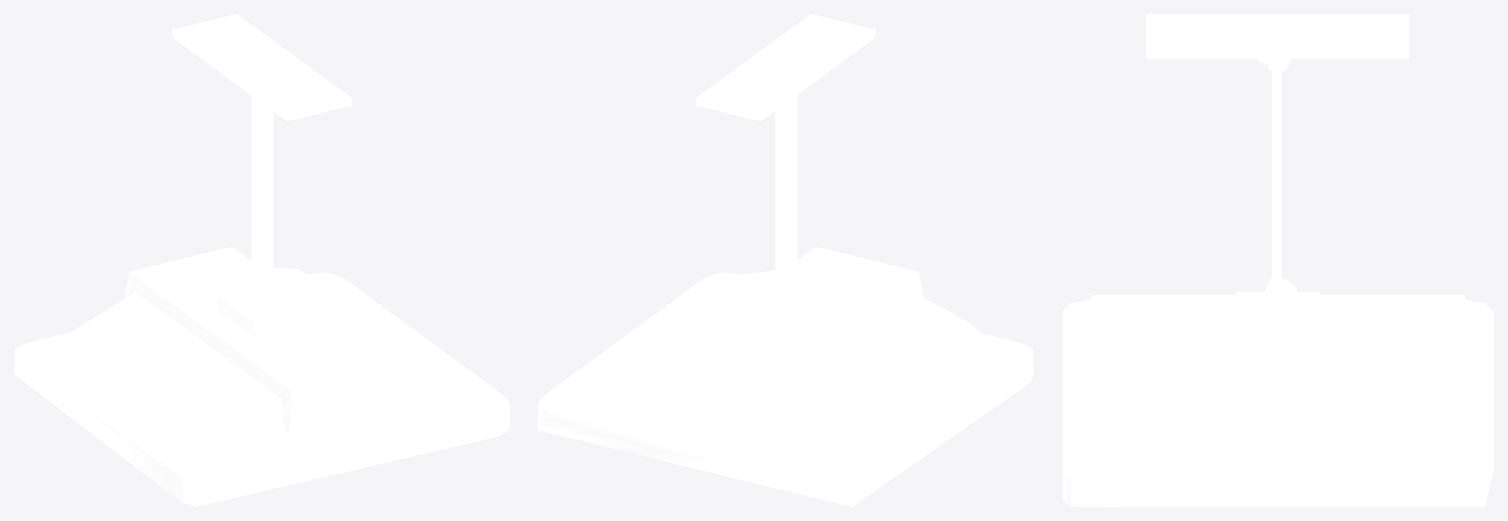
The model's file is bw-ceiling-lamp.lod1.glb.
3 views of the same model, side by side, from view 1: azimuth 30°, elevation 25°; view 2: azimuth 150°, elevation 25°; view 3: azimuth 270°, elevation 25° (orthographic). The views are drawn at different scales.
Visible parts, largest first — view 1: Lamp_Base_Lamp_0; view 2: Lamp_Base_Lamp_0; view 3: Lamp_Base_Lamp_0.
Part boxes in pixels (box(x1,y1,x2,y2)): Lamp_Base_Lamp_0: box(14, 14, 509, 506); Lamp_Base_Lamp_0: box(538, 14, 1033, 506); Lamp_Base_Lamp_0: box(1062, 14, 1493, 506).
Size of the model in its own units: 0.45 by 0.446 by 0.45.
Materials: 1 (1 with a texture image).
